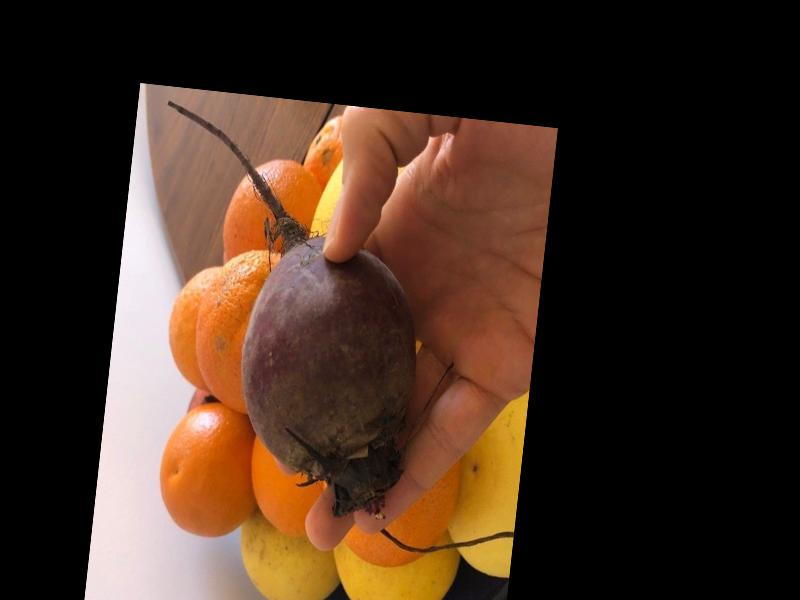Beet: (125, 101, 441, 517)
